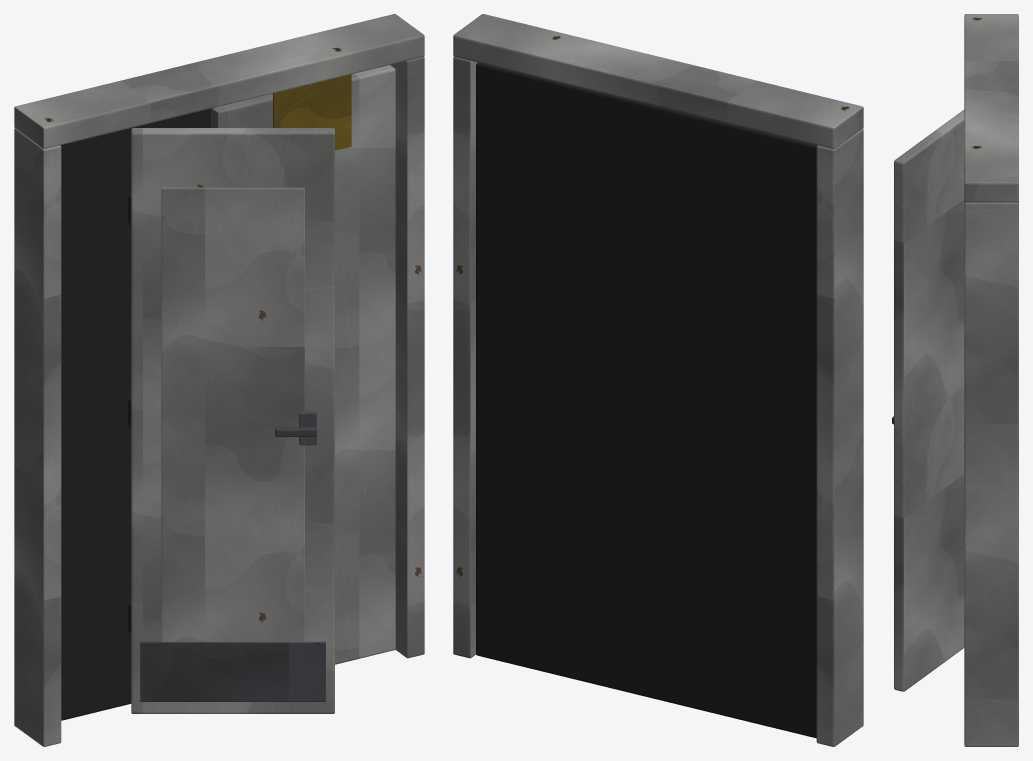
File: door_lab.glb
3 views of the same model, side by side, from view 1: azimuth 30°, elevation 25°; view 2: azimuth 150°, elevation 25°; view 3: azimuth 270°, elevation 25° (orthographic). The views are drawn at different scales.
Parts seen in each view (by area): view 1: frame, door; view 2: frame; view 3: frame, door.
Part boxes in pixels (left/top/right/bottom): frame: left=14, top=14, right=424, bottom=746; door: left=128, top=128, right=334, bottom=713; frame: left=453, top=14, right=863, bottom=746; frame: left=964, top=14, right=1018, bottom=746; door: left=892, top=109, right=964, bottom=691.
Size of the model in its own units: 1.47 by 2.28 by 0.4648.
Materials: 6 (4 with a texture image).
